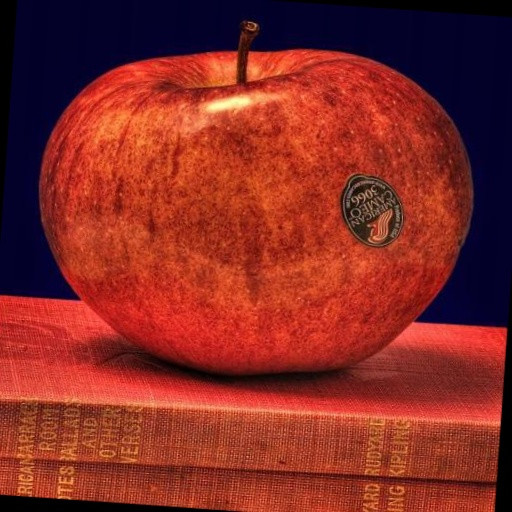fruit: (0, 73, 83, 363), (125, 27, 361, 110), (124, 10, 360, 65)
